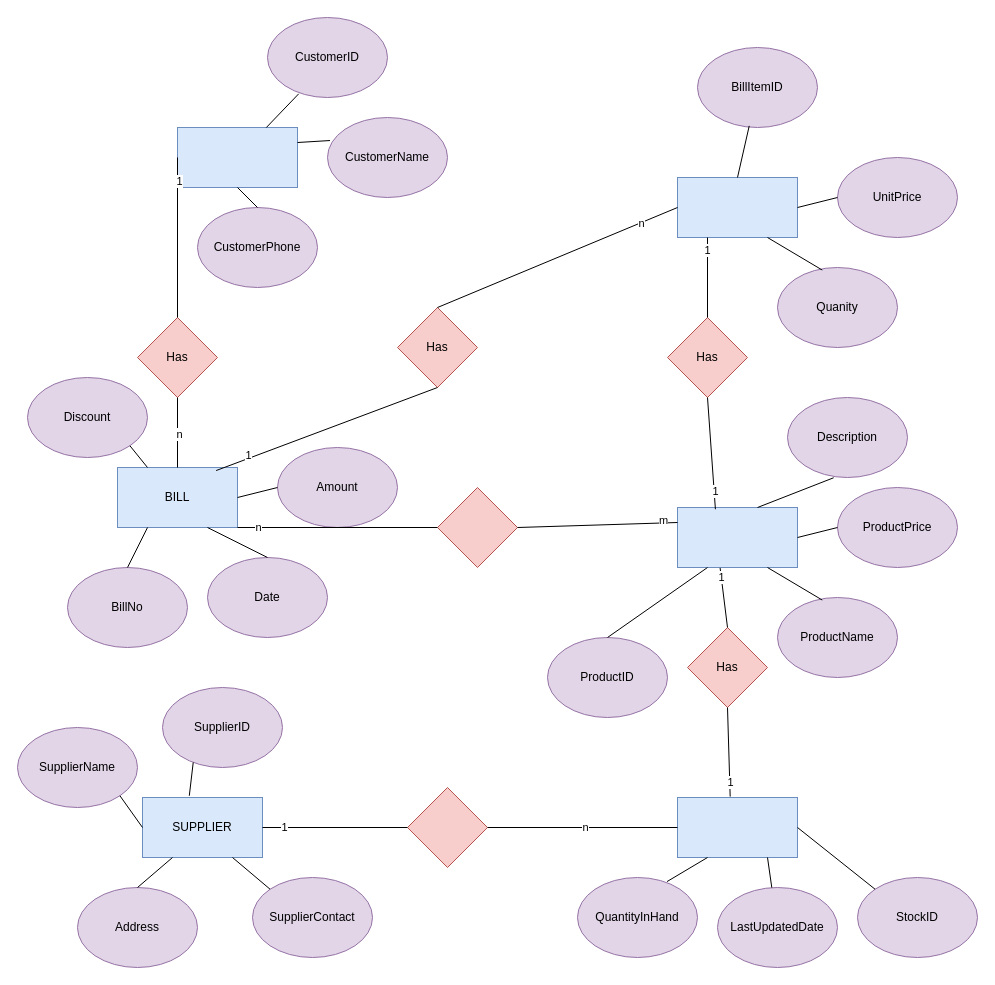
Image size: 995x985. Some labels were removed from this diagram. Here are the shapes that lost their labels. From the top down, the centre of each, then its label:
At (x=237, y=157): "CUSTOMER".
At (x=737, y=207): "BILLITEM".
At (x=477, y=527): "Contains".
At (x=737, y=537): "PRODUCT".
At (x=447, y=827): "Supplies".
At (x=737, y=827): "STOCK".
